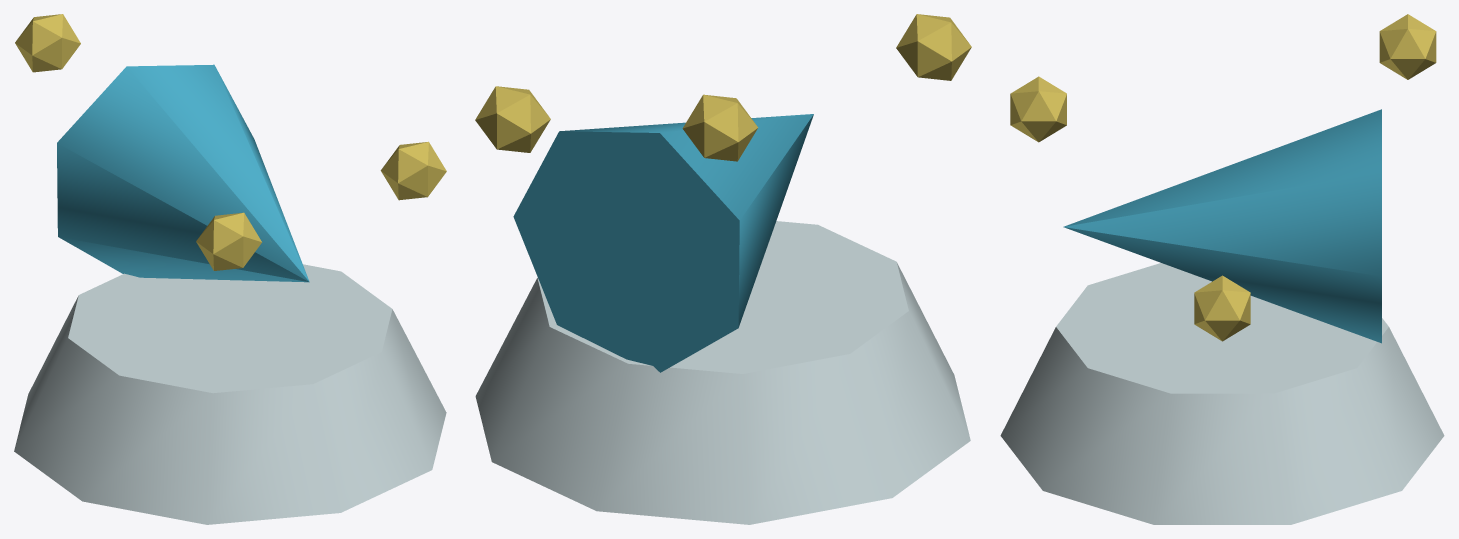
Rendered from resident_02_memory.glb.
3 views of the same model, side by side, from view 1: azimuth 30°, elevation 25°; view 2: azimuth 150°, elevation 25°; view 3: azimuth 270°, elevation 25° (orthographic). The views are drawn at different scales.
Visible parts, largest first — view 1: memory_pedestal, memory_symbol_resident_02, memory_star_0, memory_star_1, memory_star_2; view 2: memory_pedestal, memory_symbol_resident_02, memory_star_2, memory_star_1, memory_star_0; view 3: memory_pedestal, memory_symbol_resident_02, memory_star_2, memory_star_0, memory_star_1.
Boxes of the visible parts, x1,y1,x2,y2 form: memory_pedestal: (14,264,446,524); memory_symbol_resident_02: (57,64,309,282); memory_star_0: (380,141,446,200); memory_star_1: (196,212,261,270); memory_star_2: (15,14,80,72); memory_pedestal: (475,221,970,524); memory_symbol_resident_02: (513,114,813,372); memory_star_2: (682,94,758,161); memory_star_1: (896,14,971,80); memory_star_0: (475,86,550,152); memory_pedestal: (1000,263,1444,524); memory_symbol_resident_02: (1063,109,1381,343); memory_star_2: (1379,14,1436,79); memory_star_0: (1194,275,1250,341); memory_star_1: (1010,76,1066,142).
Size of what is drawn, in the model's own units: 2.44 by 2.21 by 2.4.
